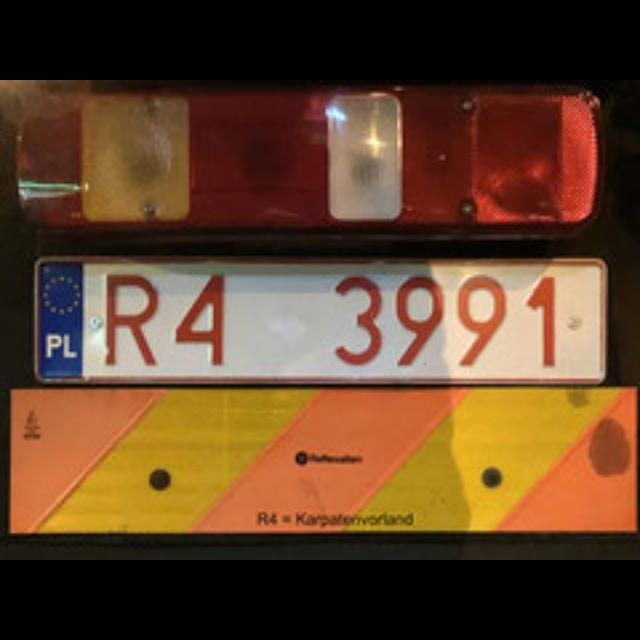pl_license_plate: (34, 259, 600, 379)
